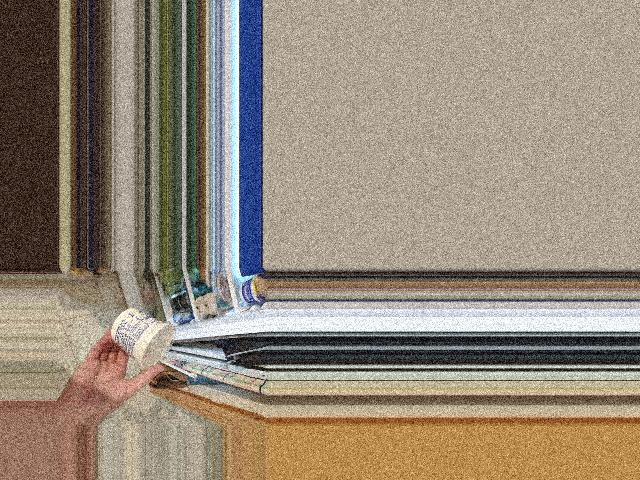cotage: (120, 310, 177, 368)
